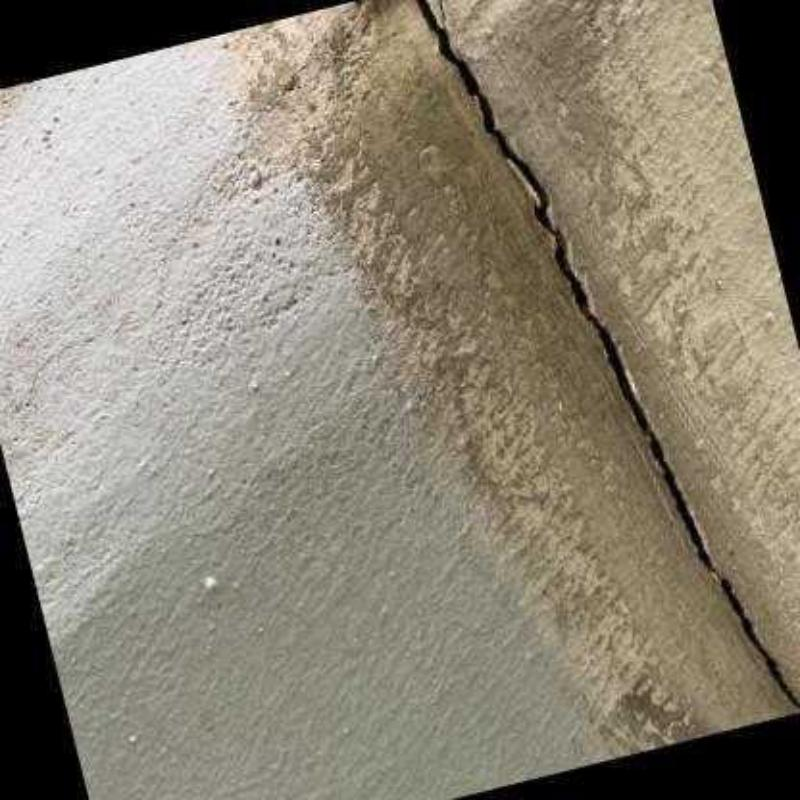pothole: (413, 0, 800, 714)
